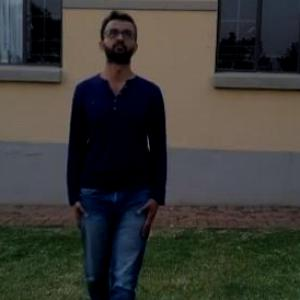follow: (63, 4, 169, 299)
